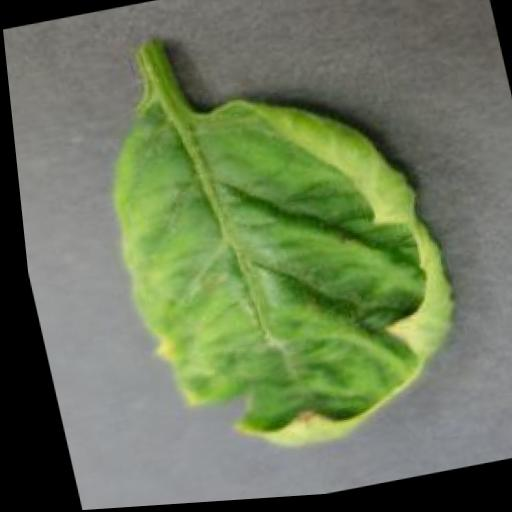Yellow Leaf Curl Virus: (83, 67, 477, 480)
